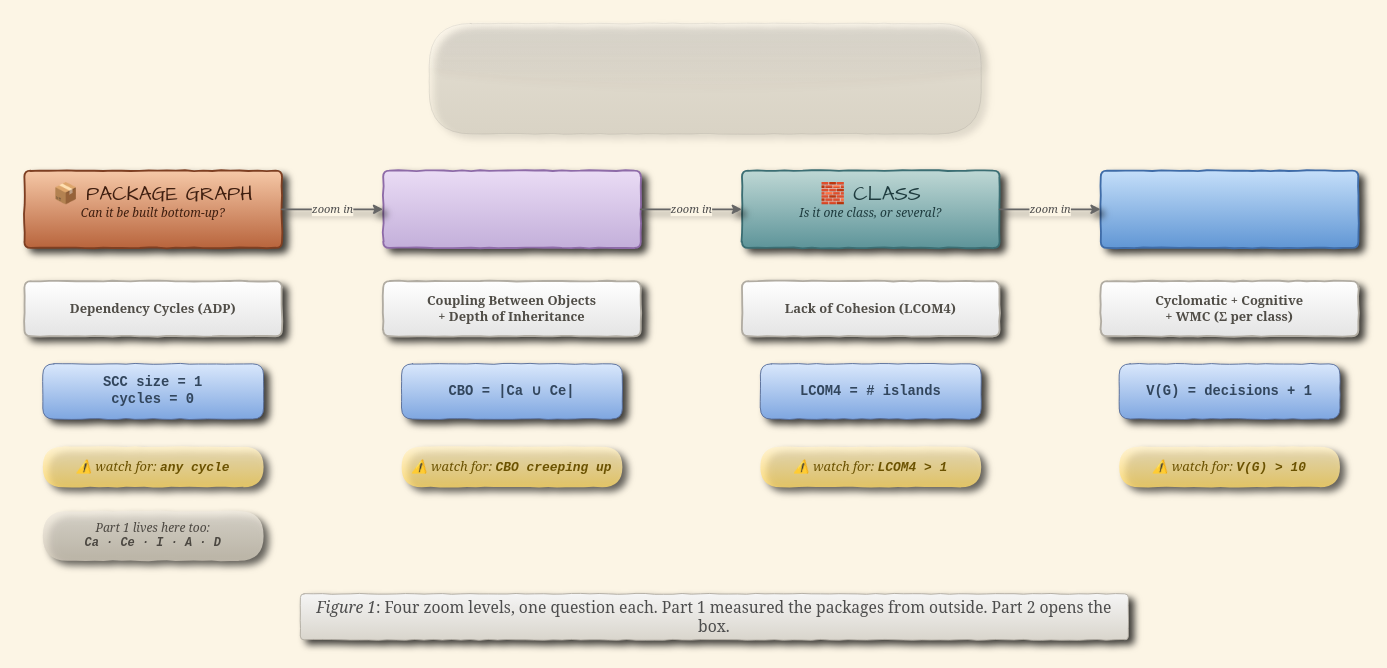
Some shapes in this 1387 by 668 pixel diagram are drawn without their labels. The centre of each missing label's shape, as x and y in pixels:
"Beyond Coupling Cycles · Coupling · Cohesion · Complexity by Steven Miers" goes at [707,80].
"🔬 METHOD How many paths run through it?" goes at [1232,211].
"🧩 CLASS GRAPH How many classes does it lean on?" goes at [514,211].
